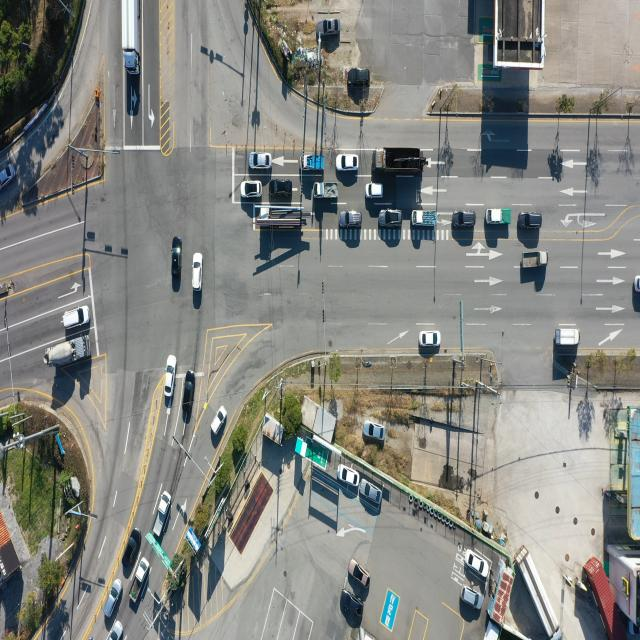car: (104, 580, 122, 620), (124, 530, 142, 570), (62, 306, 90, 331), (185, 370, 198, 422), (468, 550, 490, 578), (350, 560, 371, 588), (342, 585, 361, 614), (463, 584, 485, 609), (361, 480, 383, 505), (338, 464, 360, 486), (211, 406, 226, 438), (165, 355, 176, 398), (362, 421, 385, 441), (519, 211, 543, 229), (379, 209, 403, 227), (0, 164, 16, 190), (336, 155, 359, 173), (340, 210, 363, 228), (349, 67, 370, 86), (251, 151, 273, 169), (271, 182, 293, 200), (191, 252, 201, 290), (454, 211, 476, 228), (242, 180, 262, 198), (172, 243, 182, 276), (420, 332, 440, 348), (364, 182, 384, 198), (110, 621, 126, 640), (322, 20, 340, 36)
medium_truck: (518, 542, 561, 636), (44, 334, 90, 370), (258, 204, 306, 233), (373, 146, 423, 170), (124, 0, 140, 73), (555, 327, 581, 346), (522, 250, 549, 268)
small_truck: (152, 489, 174, 542), (132, 557, 150, 602), (314, 181, 339, 199), (412, 210, 438, 227), (302, 156, 326, 173), (487, 208, 510, 225)
